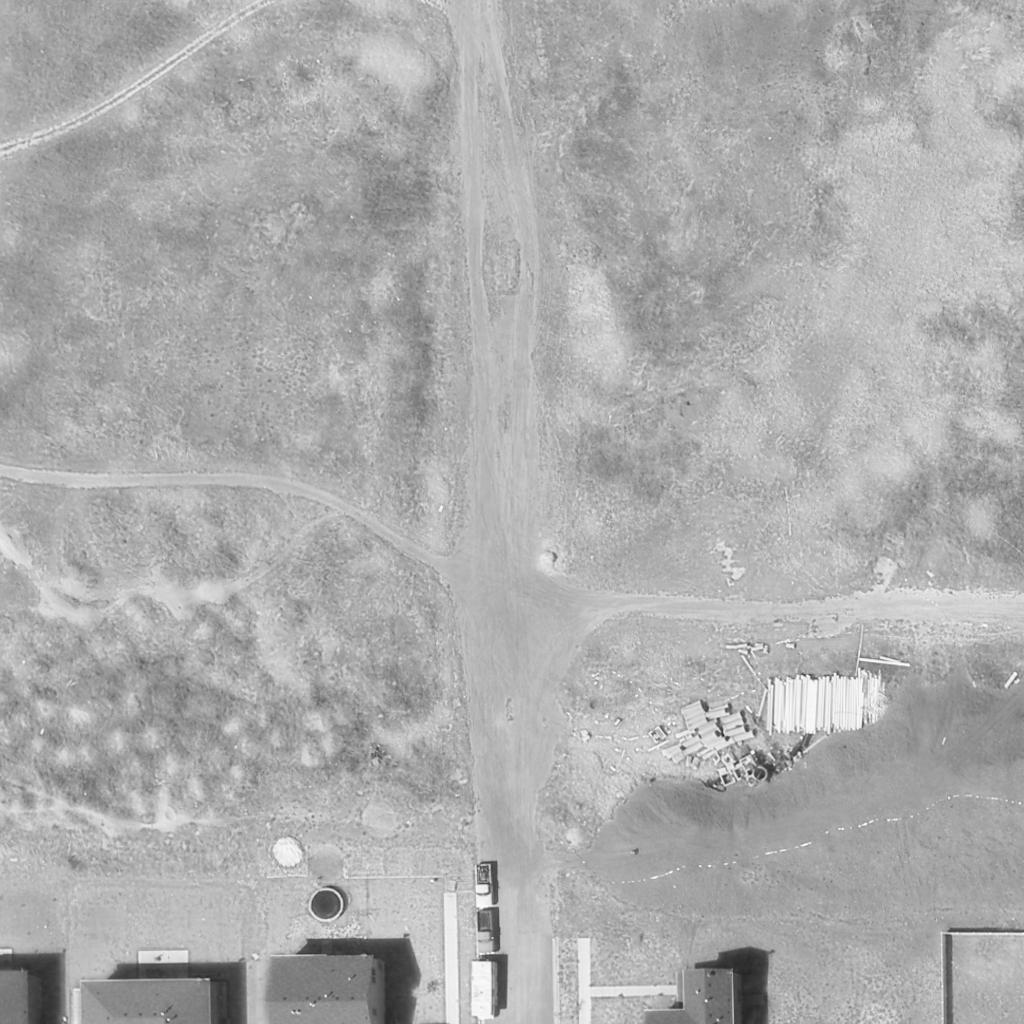vehicle: (470, 958, 500, 1020), (476, 909, 500, 953), (473, 863, 493, 907)
